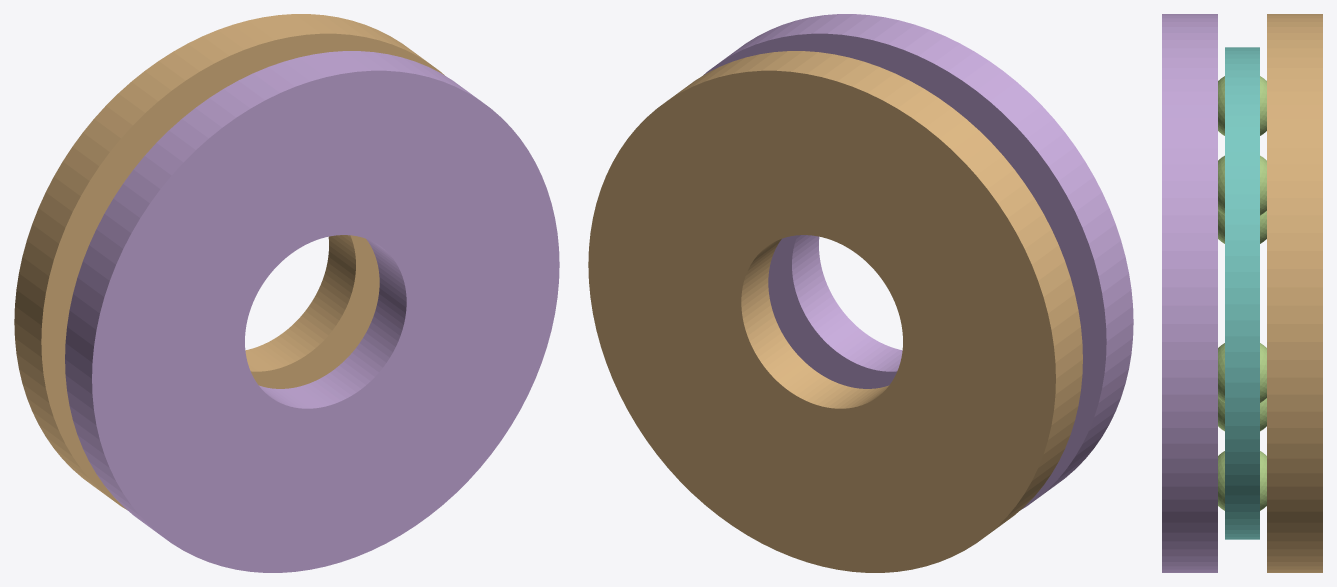
The model's file is thrust_washer_demo.glb.
The picture shows the model from 3 angles, left to right: view 1: azimuth 30°, elevation 25°; view 2: azimuth 150°, elevation 25°; view 3: azimuth 270°, elevation 25°; orthographic projection. The views are drawn at different scales.
Visible parts, largest first — view 1: thrust_rotor_washer, thrust_housing_washer; view 2: thrust_housing_washer, thrust_rotor_washer; view 3: thrust_housing_washer, thrust_rotor_washer, thrust_ball_cage, thrust_steel_balls.
Part boxes in pixels (x1,y1,x2,y2): thrust_rotor_washer: [65, 51, 559, 572]; thrust_housing_washer: [14, 14, 444, 509]; thrust_housing_washer: [588, 51, 1082, 572]; thrust_rotor_washer: [703, 14, 1133, 509]; thrust_housing_washer: [1267, 14, 1322, 572]; thrust_rotor_washer: [1162, 14, 1217, 572]; thrust_ball_cage: [1225, 47, 1259, 539]; thrust_steel_balls: [1218, 76, 1266, 510].
Size of the model in its own units: 24 by 24 by 6.9.
